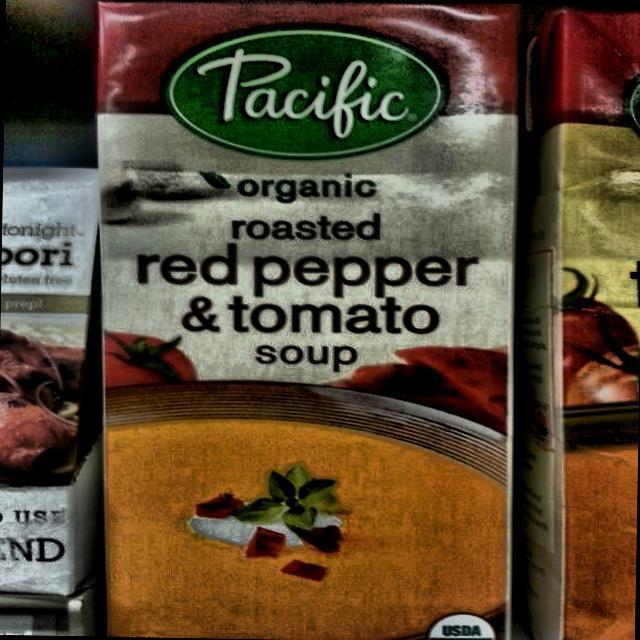cardboard: (82, 0, 523, 640), (508, 3, 640, 640)
